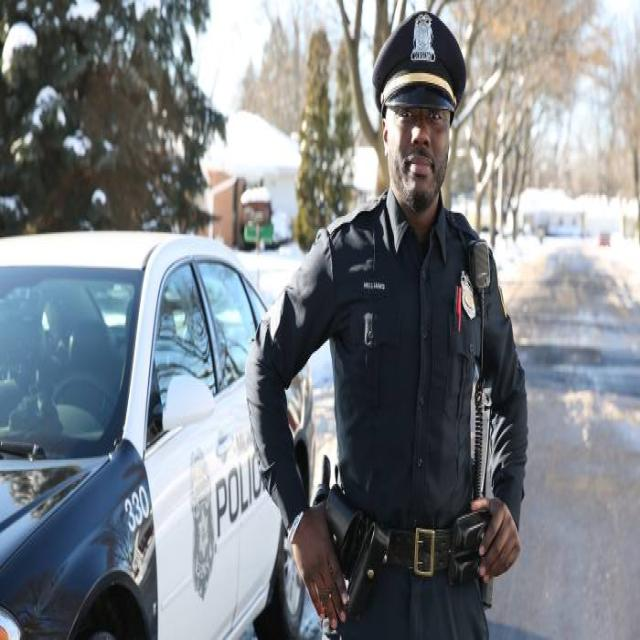police: (260, 0, 536, 633)
